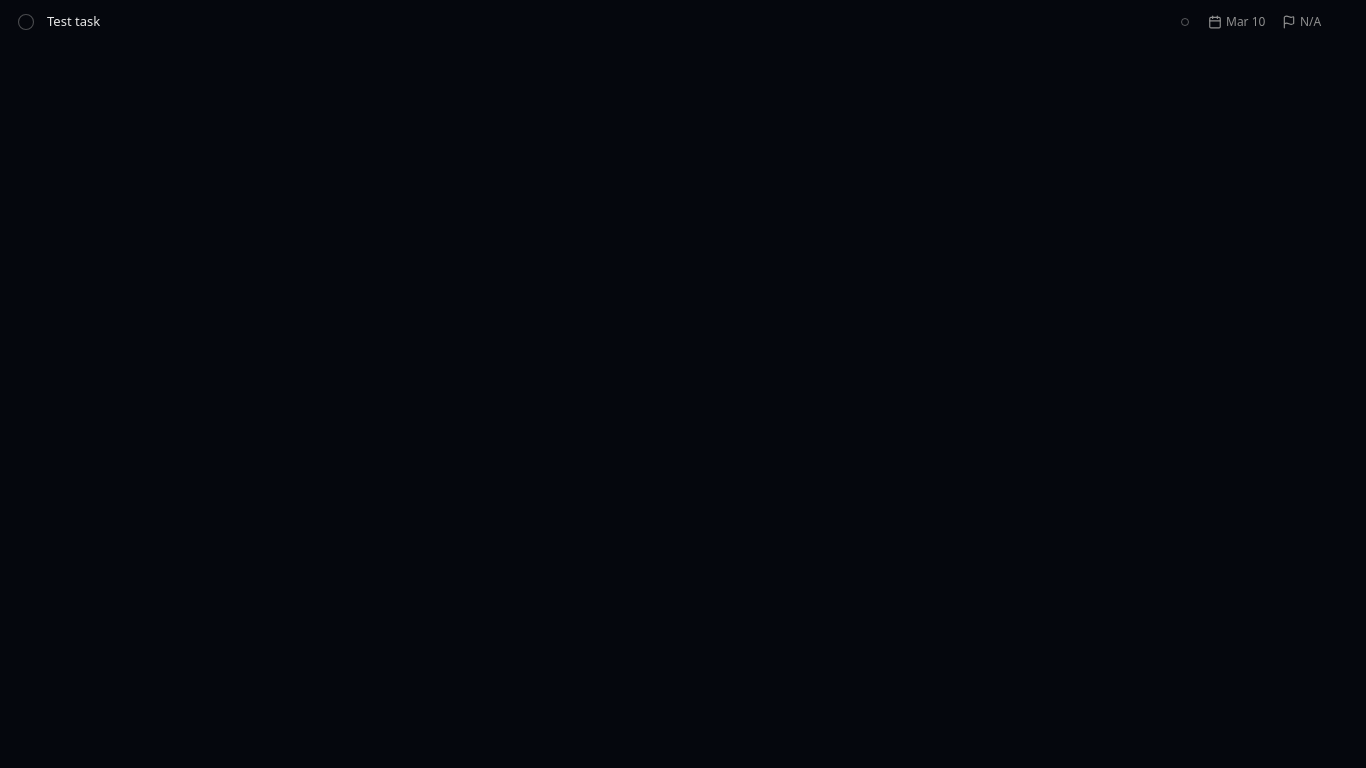
Test: TaskItem (collapsed) › shows clear button inside when_date popover when set
Click the button "Mar 10". click: (1238, 22)
box: [1202, 10, 1274, 34]
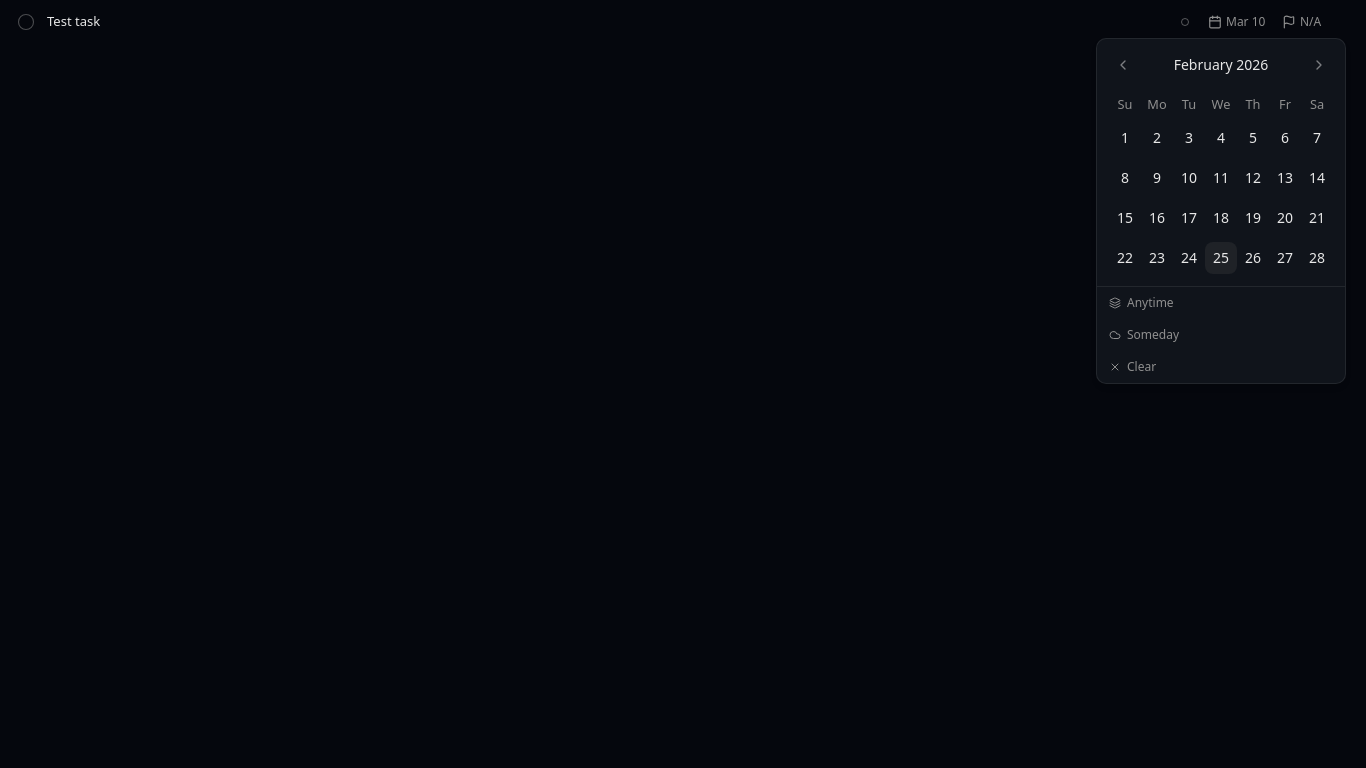
Check: the button with aria-label "Clear when date" is shown, box [1097, 351, 1345, 383]
